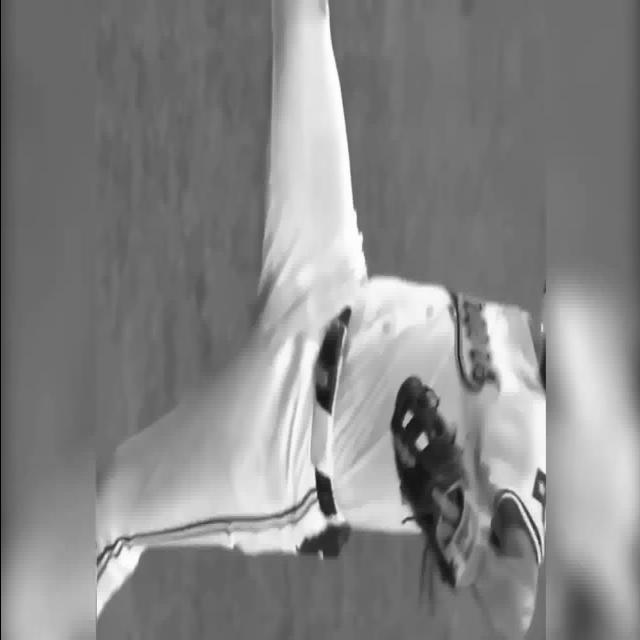baseball_glove: (390, 378, 482, 599)
